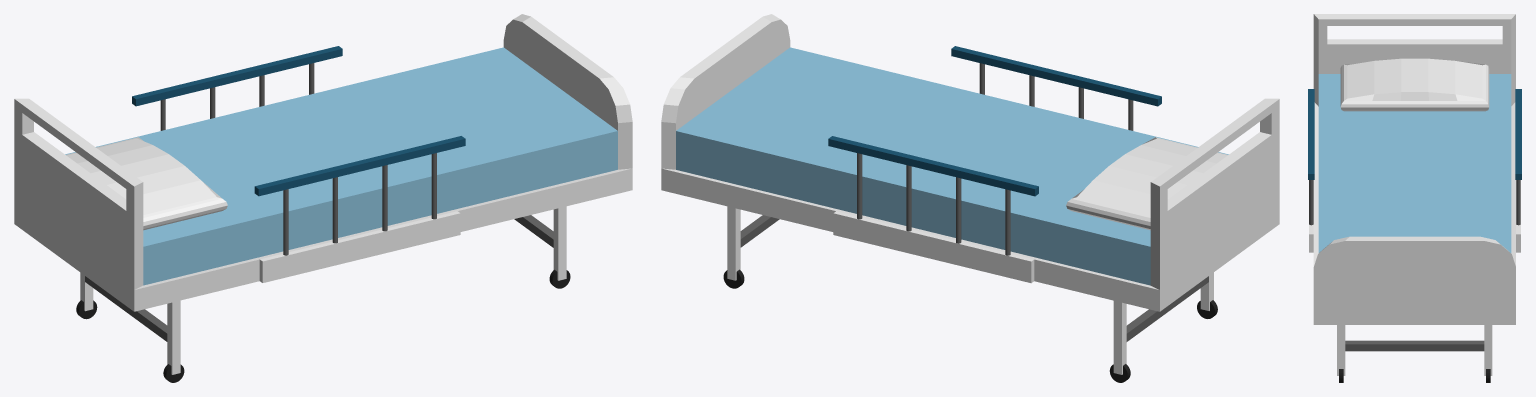
The model's file is hospitalBed.fbx.
3 views of the same model, side by side, from view 1: azimuth 30°, elevation 25°; view 2: azimuth 150°, elevation 25°; view 3: azimuth 270°, elevation 25° (orthographic). The views are drawn at different scales.
Visible parts, largest first — view 1: Cube; view 2: Cube; view 3: Cube.
Part boxes in pixels (x1,y1,x2,y2): Cube: (14, 14, 632, 382); Cube: (661, 14, 1279, 382); Cube: (1308, 14, 1521, 382).
Bounding box in the file's own units: 504 × 213 × 222.
